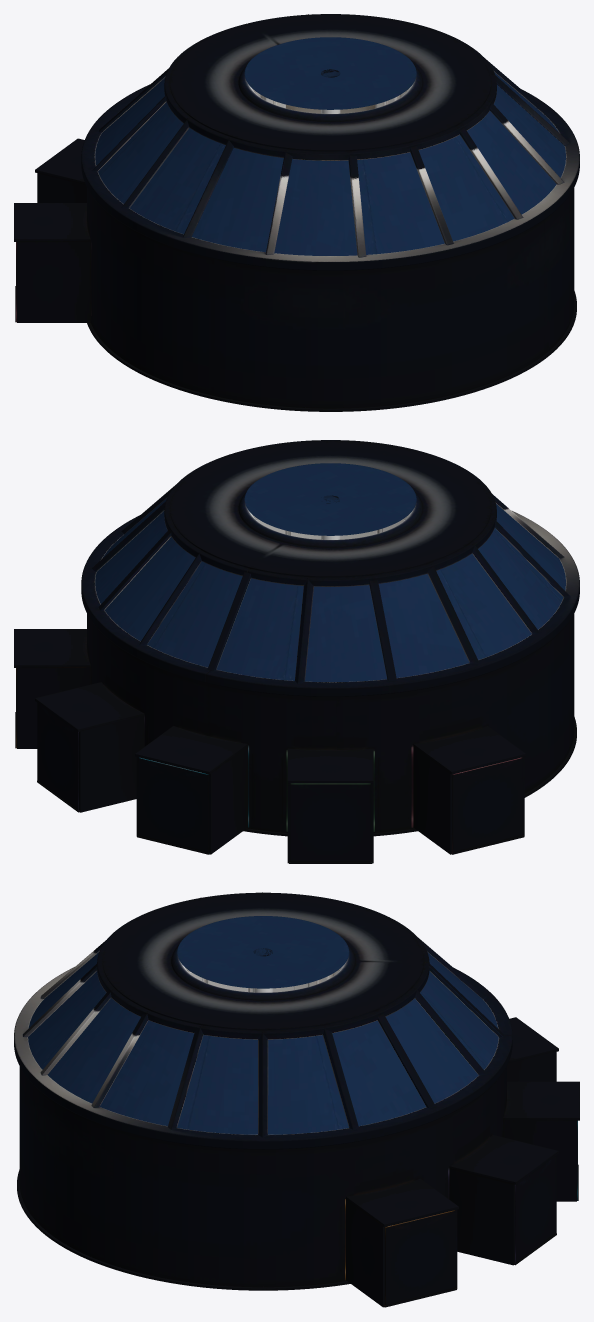
Rendered from hall_baked.glb.
3 views of the same model, one above another, from view 1: azimuth 30°, elevation 25°; view 2: azimuth 150°, elevation 25°; view 3: azimuth 270°, elevation 25° (orthographic).
Parts seen in each view (by area): view 1: baked_ceiling, baked_walls, baked_doors, baked_floor; view 2: baked_ceiling, baked_doors, baked_walls, baked_floor; view 3: baked_ceiling, baked_walls, baked_doors, baked_floor.
Part boxes in pixels (x1=…): baked_ceiling: x1=81, y1=14, x2=579, y2=270; baked_walls: x1=87, y1=88, x2=574, y2=407; baked_doors: x1=14, y1=138, x2=91, y2=322; baked_floor: x1=87, y1=291, x2=576, y2=411; baked_ceiling: x1=81, y1=440, x2=579, y2=696; baked_doors: x1=14, y1=629, x2=526, y2=863; baked_walls: x1=87, y1=514, x2=574, y2=831; baked_floor: x1=243, y1=717, x2=576, y2=836; baked_ceiling: x1=14, y1=892, x2=512, y2=1149; baked_walls: x1=19, y1=967, x2=506, y2=1286; baked_doors: x1=340, y1=1017, x2=579, y2=1307; baked_floor: x1=17, y1=1169, x2=350, y2=1290.
Bounding box in the file's own units: 20.64 × 9.02 × 19.75.
10 materials, 10 textured.
